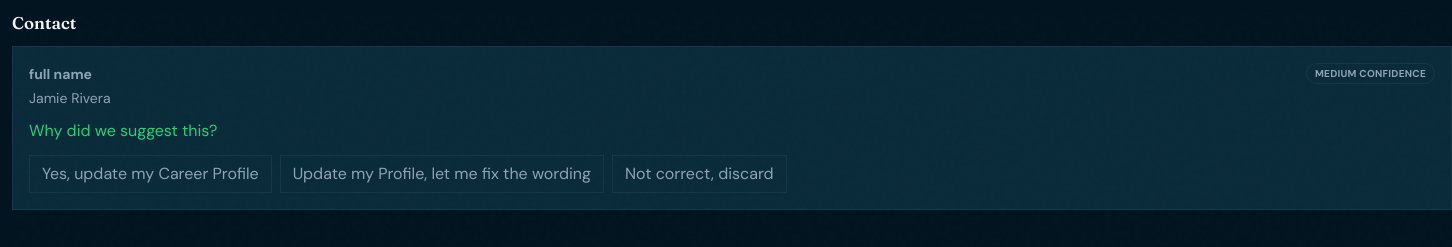
Test: ImportReviewPanel › reveals provenance only after the member asks for it
The width and height of the screenshot is (1452, 247).
Expected: the text "Found in your uploaded document" is not shown
Click the button "Why did we suggest this?".
click(123, 131)  # box left=29, top=119, right=217, bottom=143
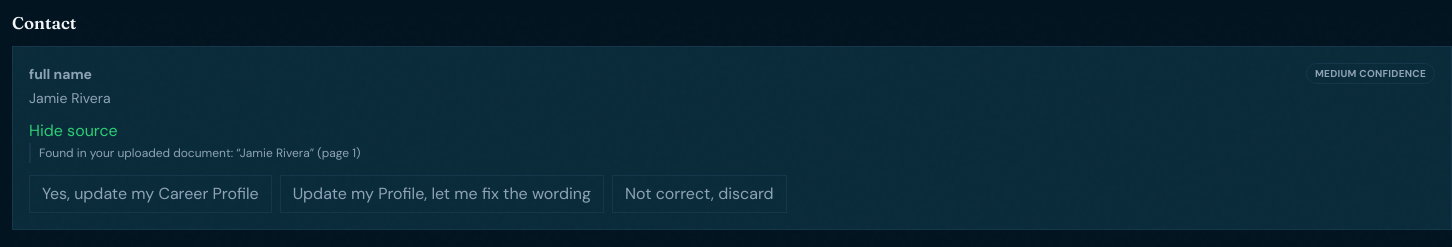
Result: the text "Found in your uploaded document: “Jamie Rivera” (page 1)" is shown at left=29, top=143, right=1435, bottom=163
